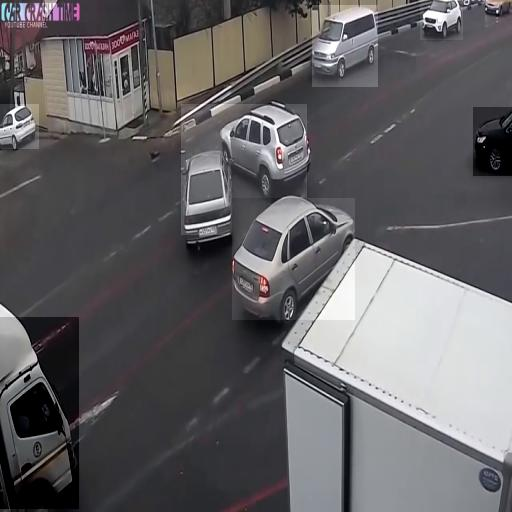小汽车: (0, 317, 79, 509), (232, 198, 355, 320), (312, 5, 378, 87), (473, 107, 512, 176), (0, 104, 39, 149), (420, 0, 463, 40)
小汽车撞小汽车: (181, 104, 307, 235)
